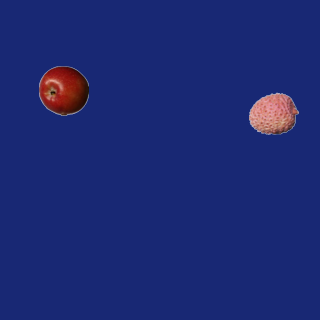Apple Braeburn: (38, 65, 88, 115)
Lychee: (248, 88, 298, 138)
